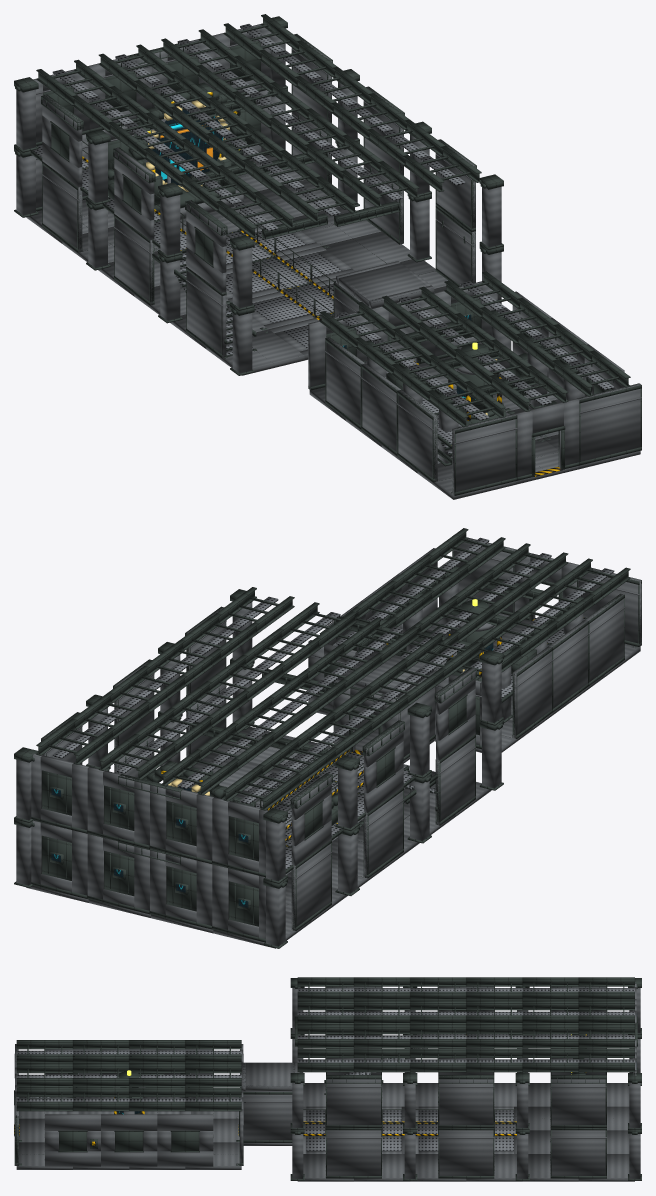
The model's file is showcase.glb.
The picture shows the model from 3 angles, top to bottom: view 1: azimuth 30°, elevation 25°; view 2: azimuth 150°, elevation 25°; view 3: azimuth 270°, elevation 25°; orthographic projection. The views are drawn at different scales.
Visible parts, largest first — view 1: SC_Wall_S_L, SC_Wall_S_R, SC_Stargate_Portal, SC_Wall_S_Door, SC_Wall_W_-4, SC_Air_Ceil, SC_S5_Wall_W_32_L0, SC_S5_Wall_W_16_L0, SC_S5_Wall_W_24_L0, SC_Wall_W_4, SC_Wall_W_0, SC_S5_Wall_E_16_L0 (+77 smaller); view 2: SC_S5_Wall_N_2_L1, SC_S5_Wall_N_-2_L1, SC_S5_Wall_N_2_L0, SC_S5_Wall_N_-2_L0, SC_S5_Wall_N_6_L1, SC_S5_Wall_N_6_L0, SC_S5_Wall_N_-6_L1, SC_S5_Wall_N_-6_L0, SC_Wall_W_4, SC_S5_Wall_W_32_L0, SC_S5_Wall_W_24_L0, SC_S5_Wall_W_16_L0 (+64 smaller); view 3: SC_S5_Wall_E_24_L1, SC_S5_Wall_E_24_L0, SC_S5_Wall_E_32_L0, SC_S5_Wall_E_32_L1, SC_S5_Wall_E_16_L1, SC_S5_Wall_E_16_L0, SC_Air_Wall_E, SC_Wall_E_4, SC_Wall_E_0, SC_Wall_E_-4, SC_Air_Ceil, SC_Ceil_0_6 (+82 smaller).
Part boxes in pixels (bbox=[...]): SC_Wall_S_L: bbox=[452, 413, 517, 495]; SC_Wall_S_R: bbox=[577, 383, 641, 465]; SC_Stargate_Portal: bbox=[128, 82, 246, 219]; SC_Wall_S_Door: bbox=[515, 398, 579, 480]; SC_Wall_W_-4: bbox=[397, 389, 437, 482]; SC_Air_Ceil: bbox=[336, 261, 434, 308]; SC_S5_Wall_W_32_L0: bbox=[42, 161, 82, 252]; SC_S5_Wall_W_16_L0: bbox=[186, 266, 226, 358]; SC_S5_Wall_W_24_L0: bbox=[114, 214, 154, 305]; SC_Wall_W_4: bbox=[325, 337, 365, 429]; SC_Wall_W_0: bbox=[361, 363, 401, 455]; SC_S5_Wall_E_16_L0: bbox=[435, 206, 475, 286]; SC_S5_Wall_N_2_L1: bbox=[87, 767, 149, 848]; SC_S5_Wall_N_-2_L1: bbox=[149, 785, 213, 863]; SC_S5_Wall_N_2_L0: bbox=[87, 834, 149, 914]; SC_S5_Wall_N_-2_L0: bbox=[149, 850, 212, 929]; SC_S5_Wall_N_6_L1: bbox=[27, 751, 89, 833]; SC_S5_Wall_N_6_L0: bbox=[31, 820, 87, 898]; SC_S5_Wall_N_-6_L1: bbox=[212, 797, 268, 876]; SC_S5_Wall_N_-6_L0: bbox=[212, 864, 265, 942]; SC_Wall_W_4: bbox=[512, 646, 552, 738]; SC_S5_Wall_W_32_L0: bbox=[291, 839, 331, 930]; SC_S5_Wall_W_24_L0: bbox=[363, 787, 403, 878]; SC_S5_Wall_W_16_L0: bbox=[435, 734, 475, 825]; SC_S5_Wall_E_24_L1: bbox=[438, 1076, 494, 1127]; SC_S5_Wall_E_24_L0: bbox=[438, 1128, 494, 1178]; SC_S5_Wall_E_32_L0: bbox=[550, 1128, 606, 1178]; SC_S5_Wall_E_32_L1: bbox=[550, 1076, 606, 1127]; SC_S5_Wall_E_16_L1: bbox=[326, 1076, 381, 1127]; SC_S5_Wall_E_16_L0: bbox=[326, 1128, 381, 1178]; SC_Air_Wall_E: bbox=[241, 1091, 292, 1142]; SC_Wall_E_4: bbox=[157, 1114, 213, 1166]; SC_Wall_E_0: bbox=[101, 1114, 157, 1166]; SC_Wall_E_-4: bbox=[45, 1114, 100, 1166]; SC_Air_Ceil: bbox=[241, 1062, 297, 1091]; SC_Ceil_0_6: bbox=[185, 1063, 241, 1087].
Bounding box in the file's own units: 17.2 × 8.9 × 44.7.
Materials: 12 (7 with a texture image).
